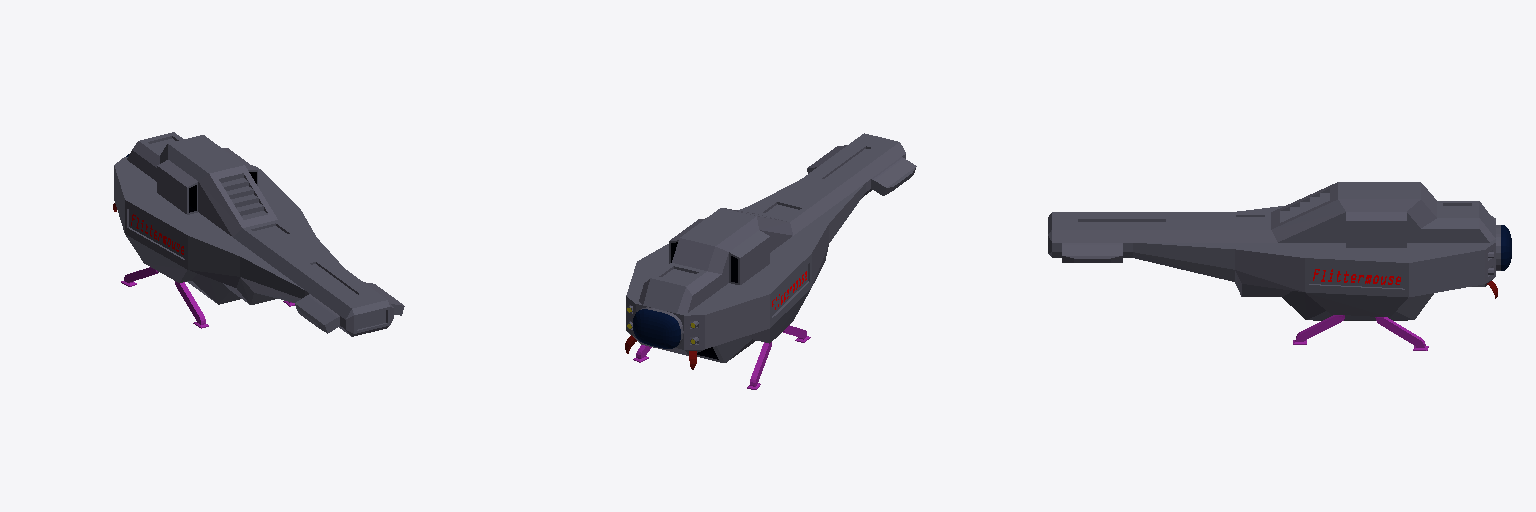
3 views of the same model, side by side, from view 1: azimuth 30°, elevation 25°; view 2: azimuth 150°, elevation 25°; view 3: azimuth 270°, elevation 25° (orthographic).
Parts seen in each view (by area): view 1: hull, legs; view 2: hull, legs; view 3: hull, legs.
Part boxes in pixels (bbox=[...]): hull: bbox=[113, 132, 404, 336]; legs: bbox=[121, 267, 294, 328]; hull: bbox=[625, 133, 916, 369]; legs: bbox=[633, 325, 810, 389]; hull: bbox=[1048, 182, 1511, 320]; legs: bbox=[1293, 315, 1428, 350].
Size of the model in its own units: 2.37 by 2.22 by 7.16.
Materials: 12 (1 with a texture image).